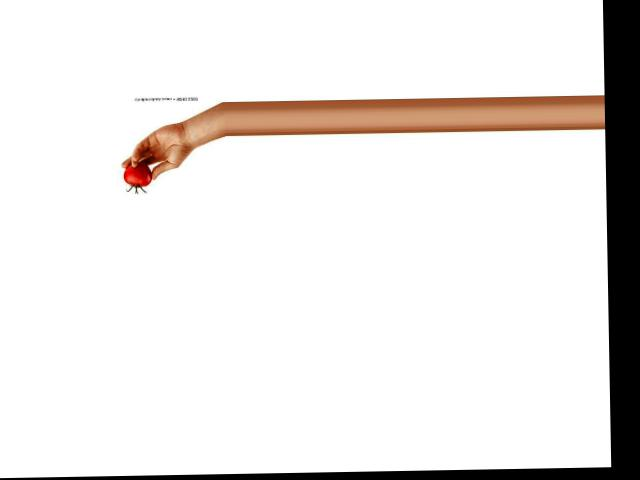tomato: (123, 161, 152, 186)
